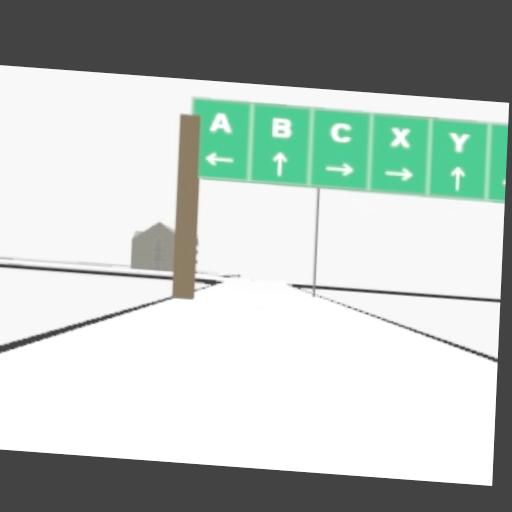A: (208, 109, 232, 132)
B: (271, 115, 292, 137)
C: (330, 120, 352, 141)
Left: (203, 151, 234, 166), (500, 172, 506, 187)
Right: (323, 160, 354, 175), (383, 165, 412, 180)
Straight: (271, 149, 287, 175), (449, 163, 465, 189)
X: (390, 124, 411, 146)
Y: (447, 131, 469, 152)
